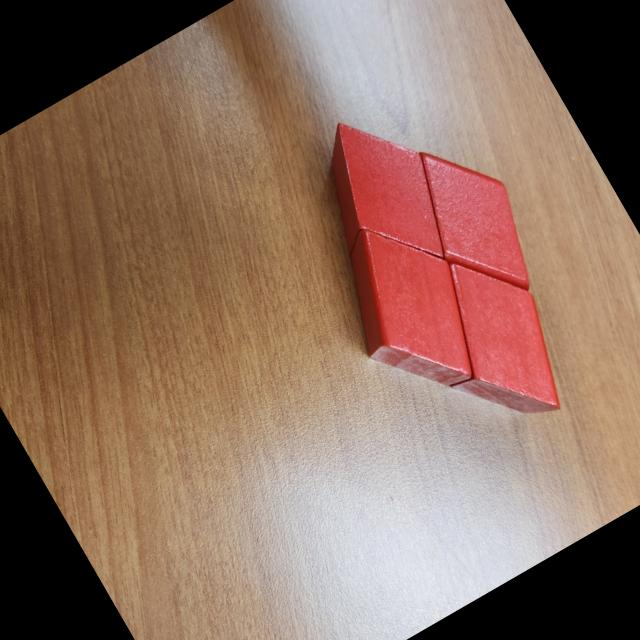red: (312, 200, 504, 418), (402, 233, 590, 448), (286, 95, 470, 300), (392, 121, 558, 319)
